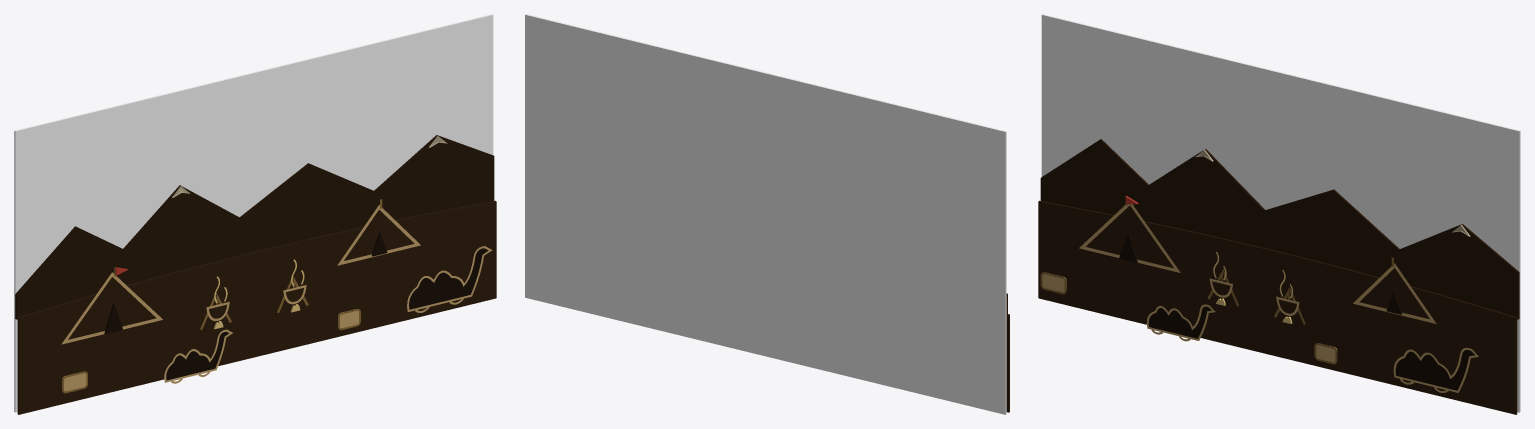
The model's file is loc-karavannaya-stoyanka.glb.
The picture shows the model from 3 angles, left to right: view 1: azimuth 30°, elevation 25°; view 2: azimuth 150°, elevation 25°; view 3: azimuth 330°, elevation 25°; orthographic projection.
Parts seen in each view (by area): view 1: loc-karavannaya-stoyanka; view 2: loc-karavannaya-stoyanka; view 3: loc-karavannaya-stoyanka.
Part boxes in pixels (<box>): loc-karavannaya-stoyanka: <box>14,14,496,414</box>; loc-karavannaya-stoyanka: <box>525,14,1009,414</box>; loc-karavannaya-stoyanka: <box>1038,14,1520,414</box>.
Bounding box in the file's own units: 5.33 × 3 × 0.501.
